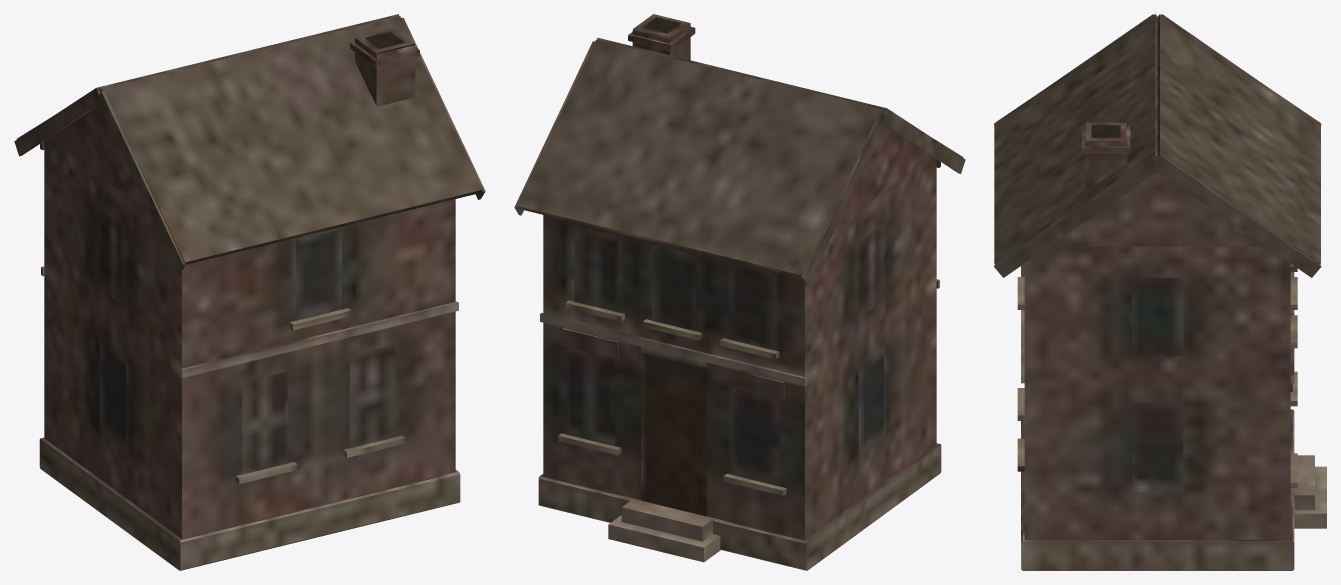
Rendered from b_bhouse_xfar.glb.
3 renders of one model, left to right at view 1: azimuth 30°, elevation 25°; view 2: azimuth 150°, elevation 25°; view 3: azimuth 270°, elevation 25°, orthographic. The views are drawn at different scales.
Parts seen in each view (by area): view 1: b_bhouse_xfar; view 2: b_bhouse_xfar; view 3: b_bhouse_xfar.
Part boxes in pixels (box(x1,y1,x2,y2)): b_bhouse_xfar: box(14, 14, 485, 570); b_bhouse_xfar: box(514, 14, 965, 570); b_bhouse_xfar: box(994, 14, 1326, 570).
Size of the model in its own units: 3.94 by 5.45 by 3.87.
1 material, 1 textured.
